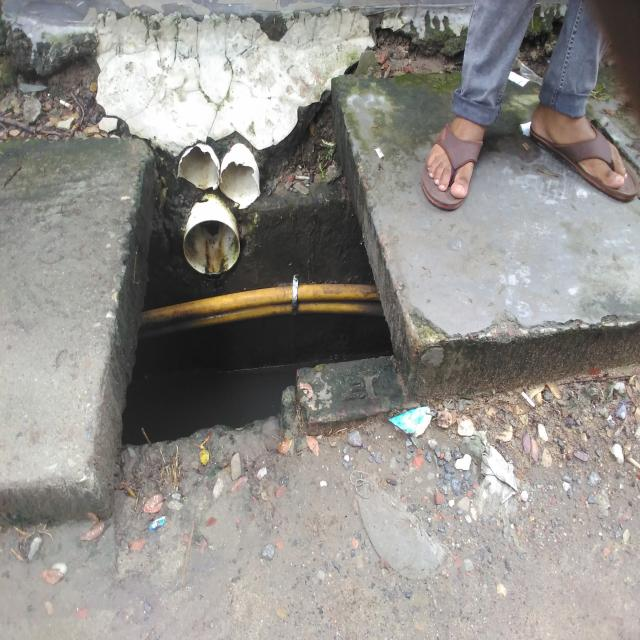drain_inlet: (95, 126, 412, 465)
